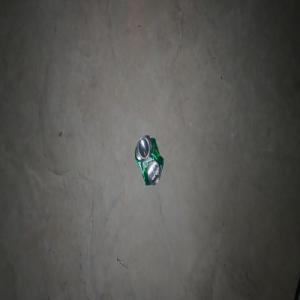SodaCan: (134, 134, 163, 185)
